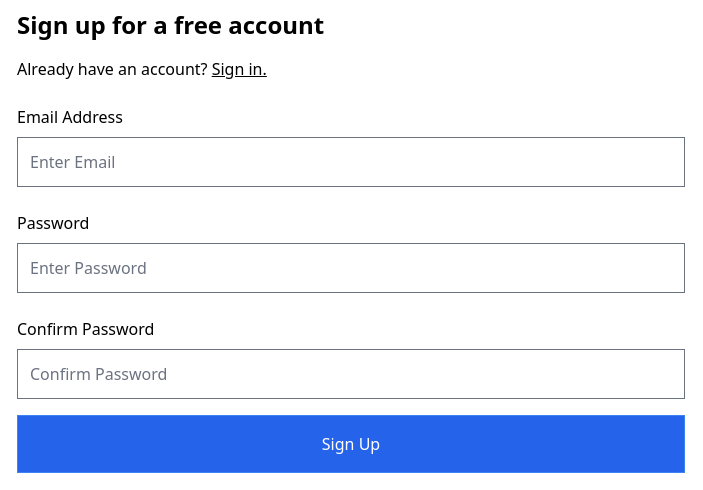
Test: Should should check if passwords match
Click the password field with placeholder "Enter Password": (351,268) [17,243,685,293]
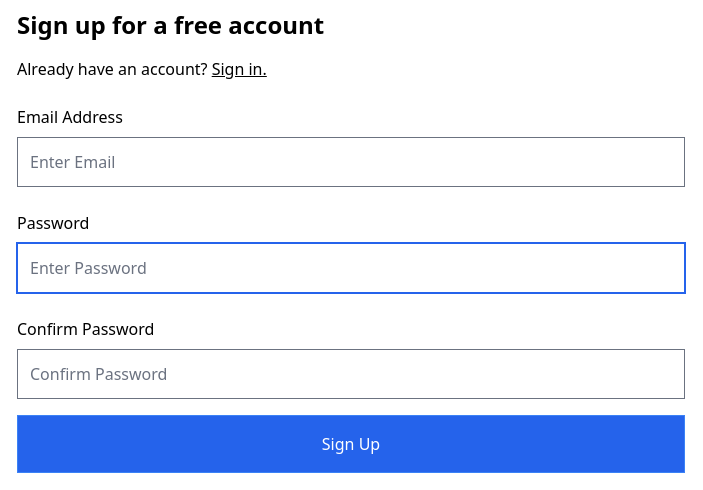
Type keys "Testing password"
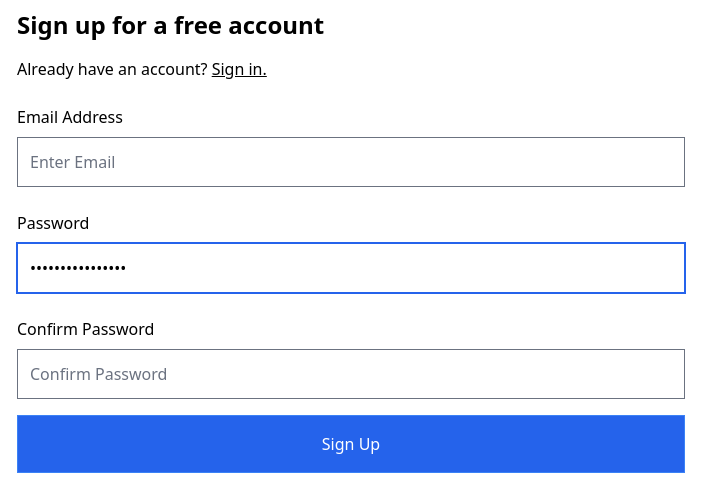
Click the password field with placeholder "Confirm Password": (351,374) [17,349,685,399]
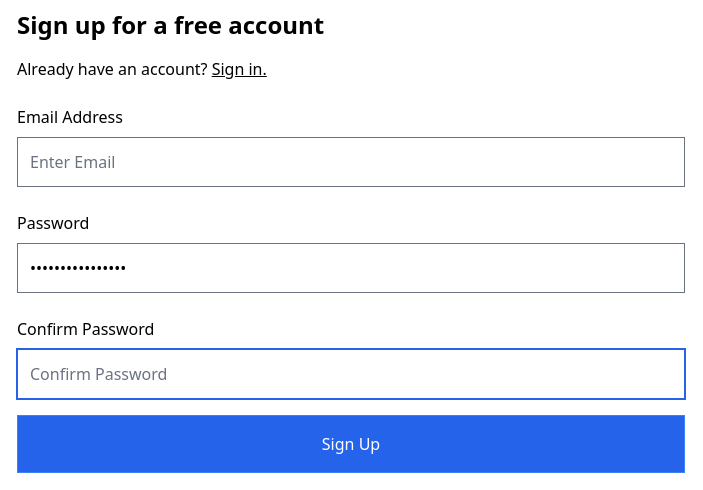
Type keys "Testing password"
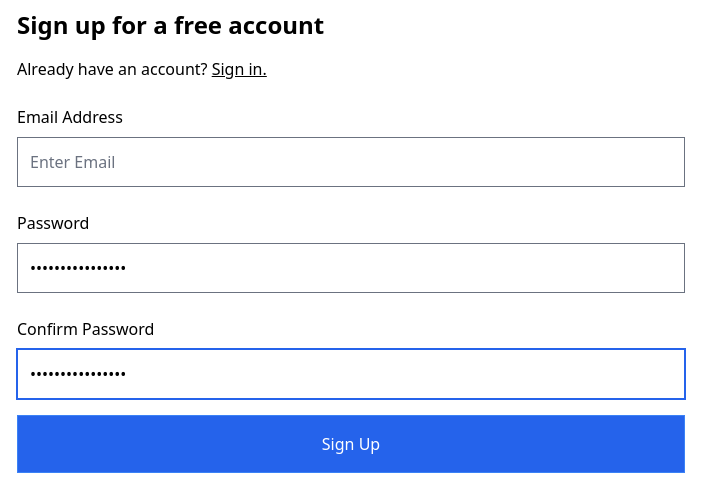
Check: the 1st password field with placeholder "Enter Password" holds "Testing password", box [17,243,685,293]
Check: the password field with placeholder "Confirm Password" below "Confirm Password" holds "Testing password", box [17,349,685,399]
